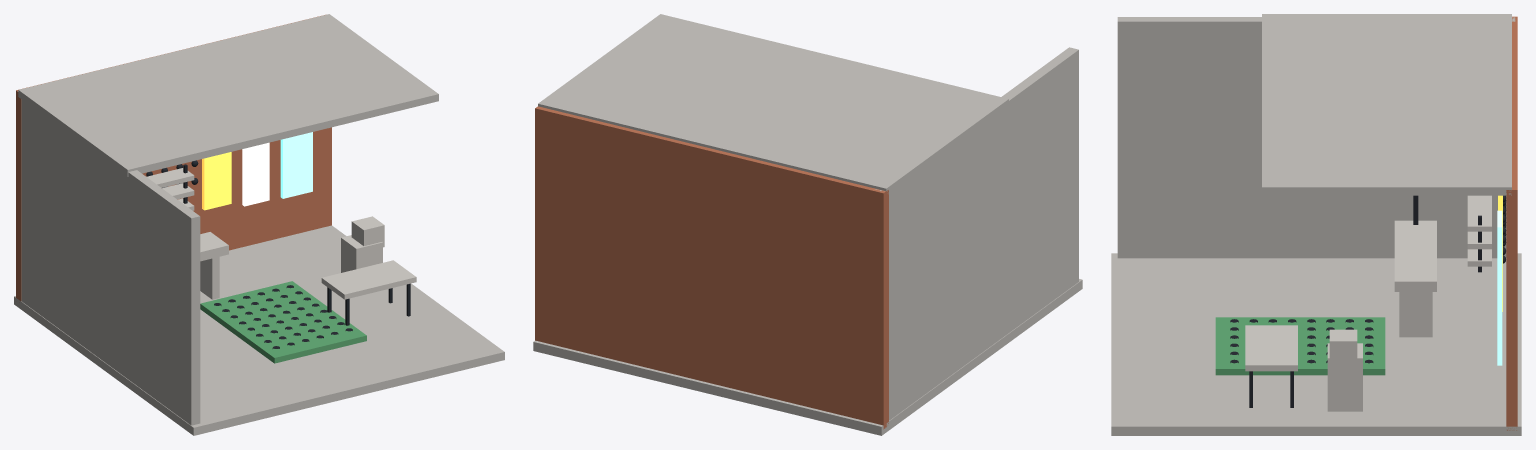
The model's file is HorizonGIBenchmark.glb.
3 views of the same model, side by side, from view 1: azimuth 30°, elevation 25°; view 2: azimuth 150°, elevation 25°; view 3: azimuth 270°, elevation 25° (orthographic). The views are drawn at different scales.
Parts seen in each view (by area): view 1: Left wall, Ceiling lip, Floor, Back wall, Perforated floor slab, Table top, Blue emissive panel, White emissive panel, Orange emissive panel, Right pedestal, Right small cube, Bench leg -0.15 (+2 smaller); view 2: Back wall, Left wall, Ceiling lip, Floor; view 3: Floor, Left wall, Ceiling lip, Perforated floor slab, Back wall, Bench top, Table top, Right pedestal, Bench leg -0.15, Right small cube, Blue emissive panel, Shelf 1.92 (+2 smaller).
Boxes of the visible parts, bbox=[...] form: Left wall: bbox=[18, 91, 200, 425]; Ceiling lip: bbox=[18, 14, 438, 176]; Floor: bbox=[14, 225, 504, 435]; Back wall: bbox=[16, 14, 331, 302]; Perforated floor slab: bbox=[200, 281, 366, 363]; Table top: bbox=[321, 260, 416, 299]; Blue emissive panel: bbox=[280, 132, 312, 198]; White emissive panel: bbox=[242, 142, 269, 206]; Orange emissive panel: bbox=[202, 152, 231, 210]; Right pedestal: bbox=[341, 235, 382, 272]; Right small cube: bbox=[351, 216, 384, 247]; Bench leg -0.15: bbox=[200, 257, 219, 299]; Back wall: bbox=[535, 106, 888, 429]; Left wall: bbox=[875, 47, 1078, 420]; Ceiling lip: bbox=[538, 14, 1008, 194]; Floor: bbox=[533, 279, 1082, 435]; Floor: bbox=[1111, 253, 1521, 435]; Left wall: bbox=[1117, 17, 1515, 258]; Ceiling lip: bbox=[1262, 14, 1511, 195]; Perforated floor slab: bbox=[1215, 317, 1385, 375]; Back wall: bbox=[1506, 16, 1517, 430]; Bench top: bbox=[1394, 220, 1436, 291]; Table top: bbox=[1245, 325, 1297, 371]; Right pedestal: bbox=[1327, 343, 1362, 411]; Bench leg -0.15: bbox=[1399, 292, 1432, 337]; Right small cube: bbox=[1329, 329, 1357, 366]; Blue emissive panel: bbox=[1497, 210, 1502, 365]; Shelf 1.92: bbox=[1467, 195, 1491, 231].
Bounding box in the file's own units: 6.4 × 4.28 × 6.4.
